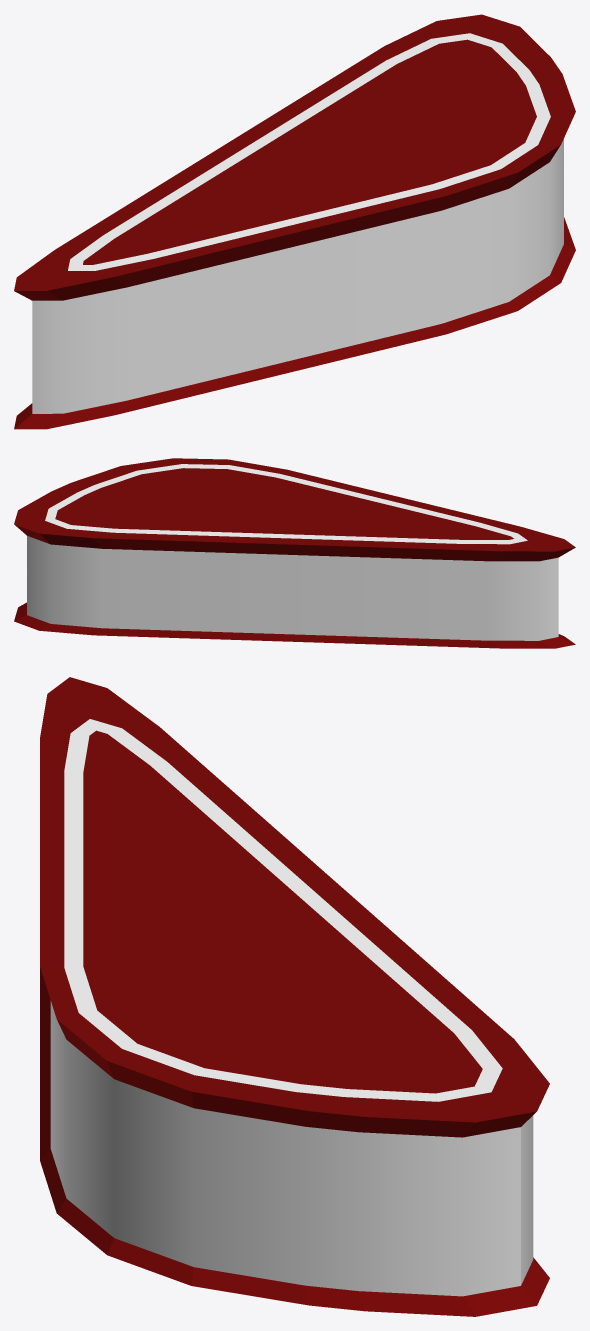
File: Bumper.fbx
The picture shows the model from 3 angles, top to bottom: view 1: azimuth 30°, elevation 25°; view 2: azimuth 150°, elevation 25°; view 3: azimuth 270°, elevation 25°; orthographic projection. The views are drawn at different scales.
Parts seen in each view (by area): view 1: Box001; view 2: Box001; view 3: Box001.
Boxes of the visible parts, x1,y1,x2,y2 form: Box001: (14,14,575,429); Box001: (14,458,575,648); Box001: (40,677,549,1316).
Size of the model in its own units: 33.38 by 6.79 by 16.16.
